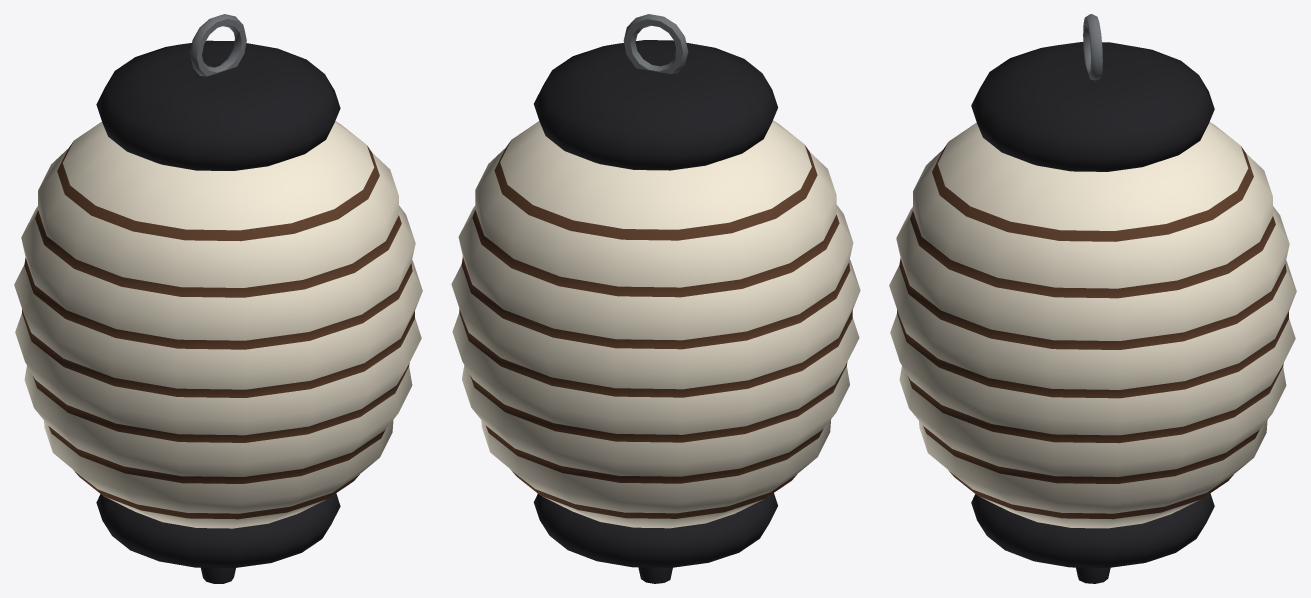
File: paper_lantern.glb
3 renders of one model, left to right at view 1: azimuth 30°, elevation 25°; view 2: azimuth 150°, elevation 25°; view 3: azimuth 270°, elevation 25°, orthographic.
Parts seen in each view (by area): view 1: paper_lantern; view 2: paper_lantern; view 3: paper_lantern.
Boxes of the visible parts, x1,y1,x2,y2 form: paper_lantern: [14, 14, 422, 583]; paper_lantern: [451, 14, 860, 583]; paper_lantern: [889, 14, 1296, 583].
Bounding box in the file's own units: 0.3911 × 0.5984 × 0.3947.
